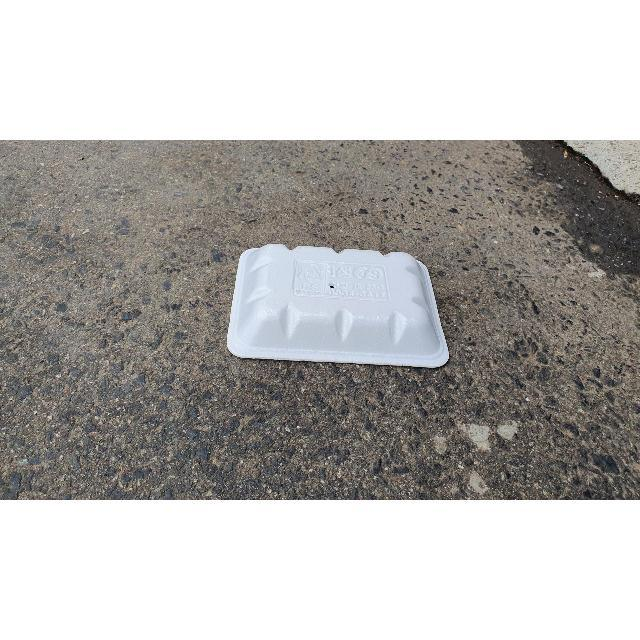Recipiente plastico: (228, 244, 449, 367)
